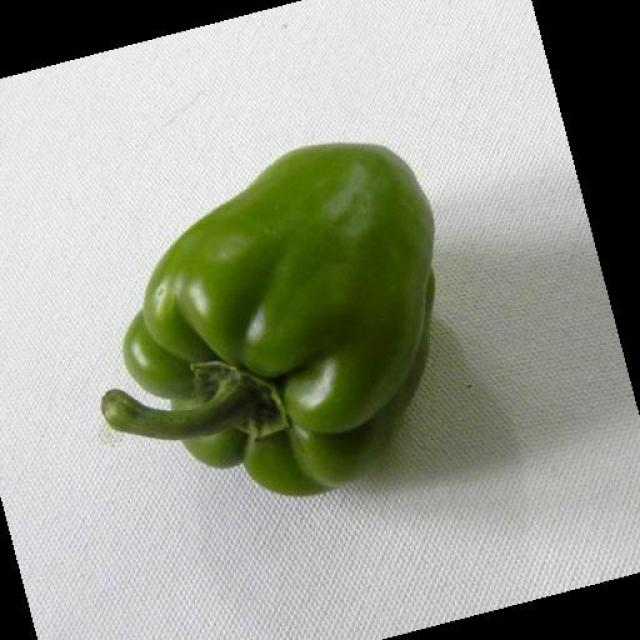Fresh_Capsicum: (116, 147, 414, 484)
